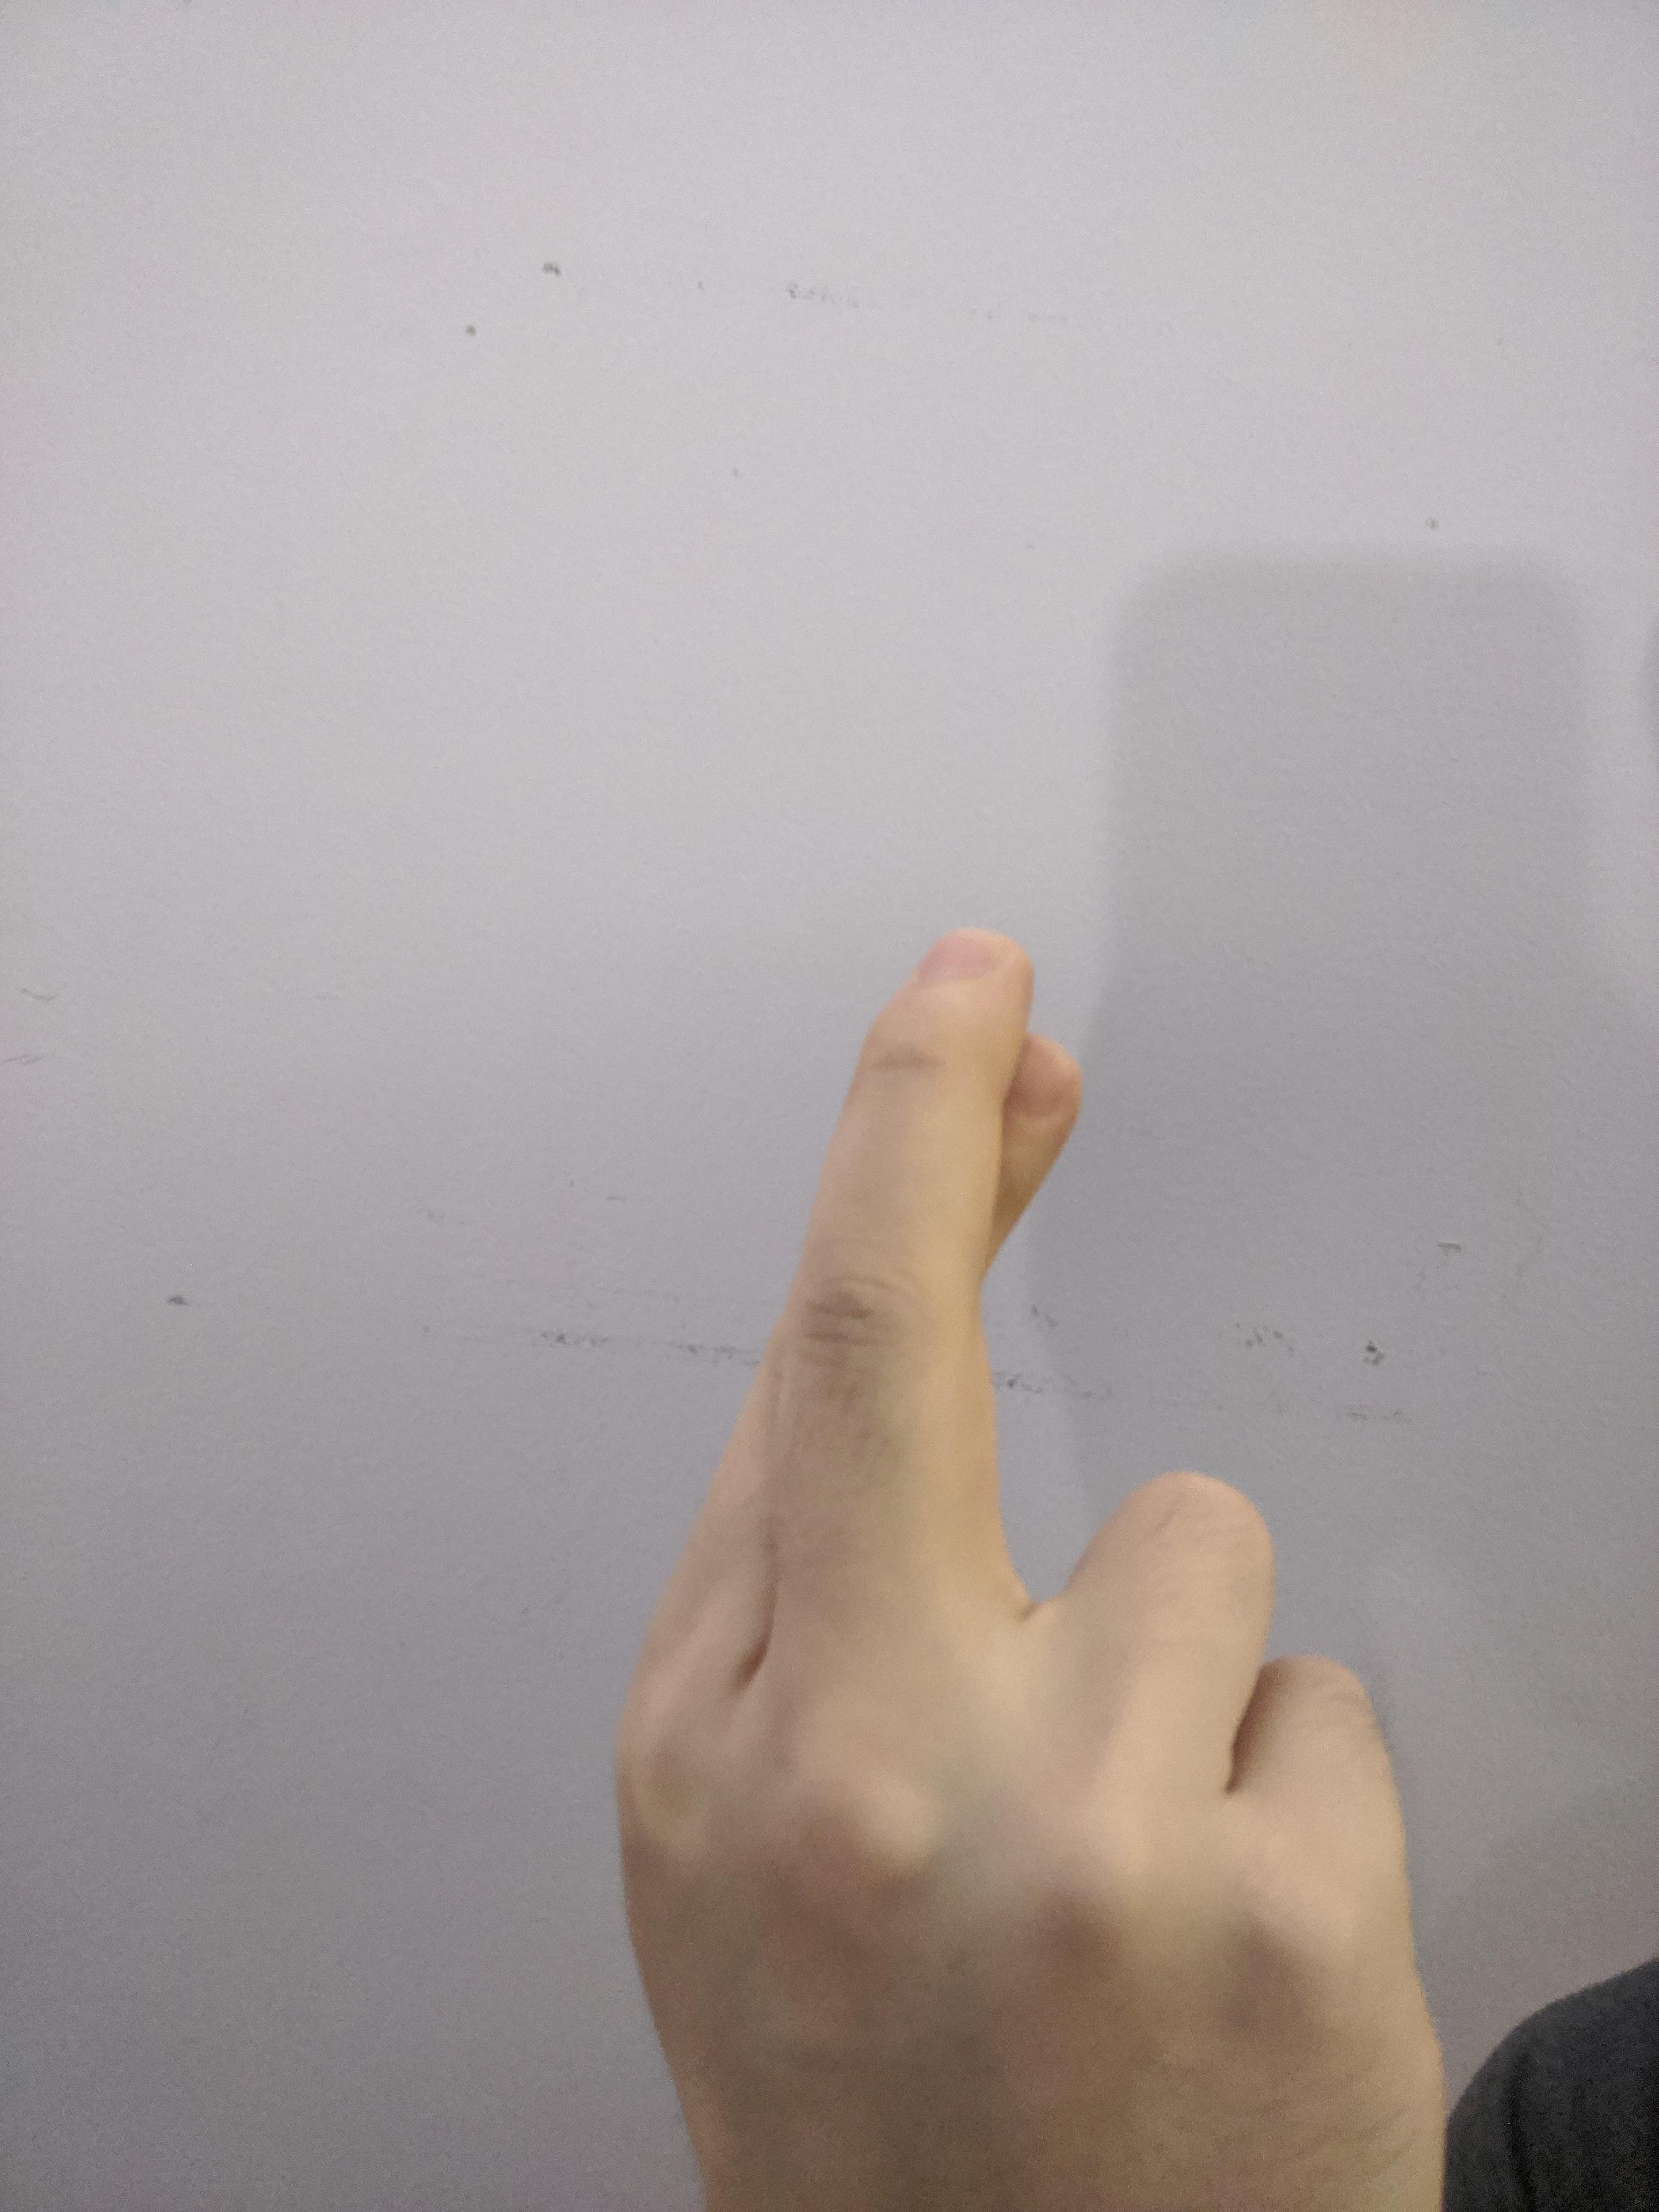R: (596, 899, 1474, 2212)
